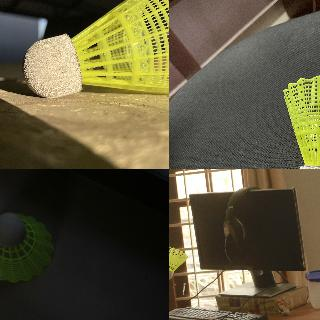shuttlecock: (22, 0, 168, 99), (0, 212, 54, 283), (283, 75, 319, 168), (169, 246, 187, 280)
